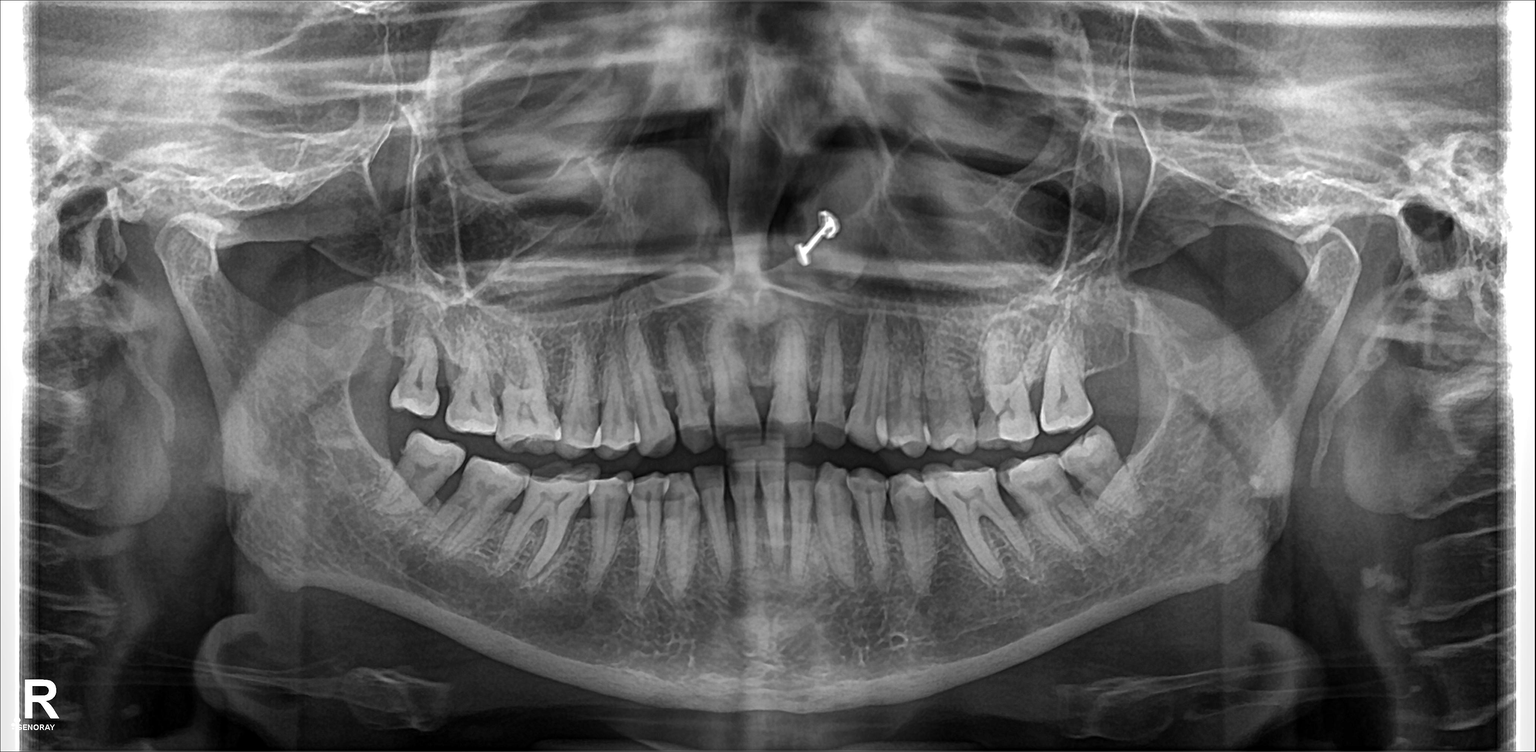Missing Tooth: (343, 315, 392, 411), (1078, 318, 1125, 405), (345, 430, 392, 496)
